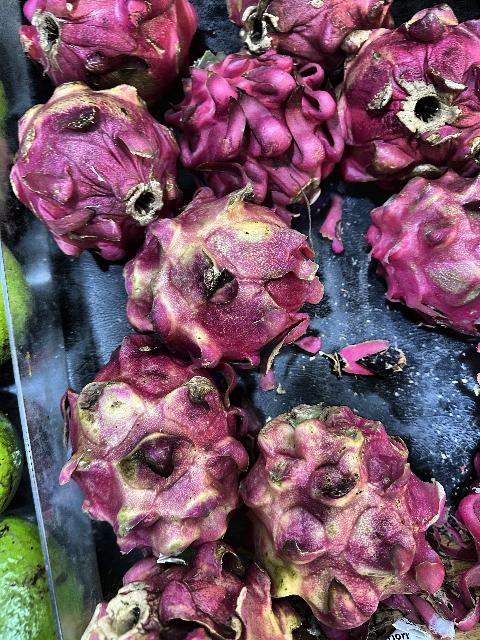buah-naga-belum-matang: (240, 392, 450, 614), (50, 331, 238, 549), (117, 192, 324, 362), (7, 83, 175, 239), (88, 552, 302, 640)
buah-naga-matang: (344, 1, 480, 180), (177, 52, 336, 198), (362, 164, 480, 336), (16, 0, 200, 90), (230, 0, 388, 48)
